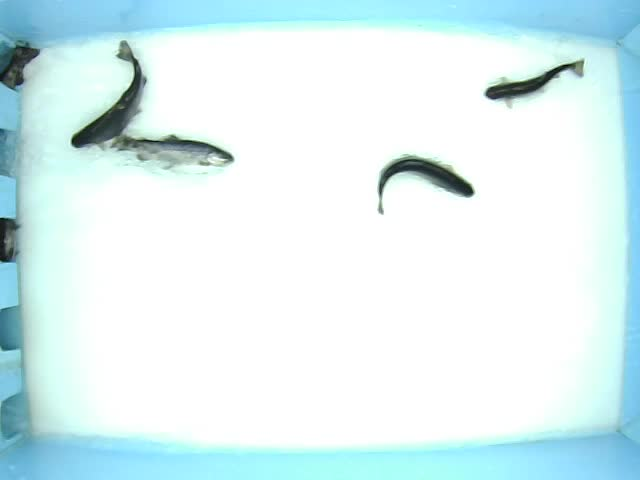fish: (68, 38, 149, 150), (375, 152, 475, 213), (484, 57, 587, 109), (107, 132, 234, 172)
